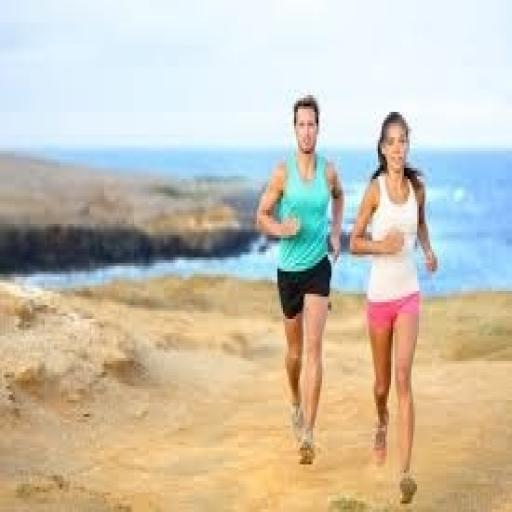running: (348, 109, 441, 507), (253, 92, 348, 468)
